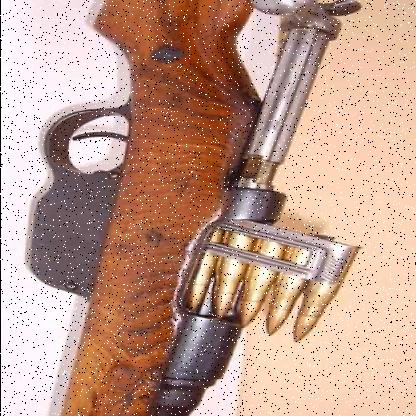rifle: (1, 0, 352, 415)
